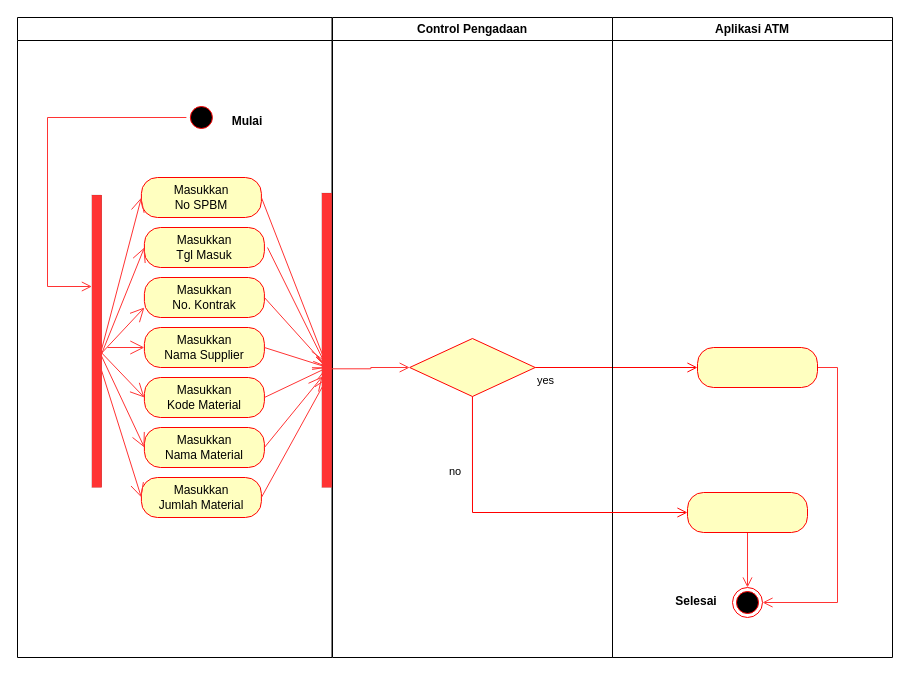
This 910x675 diagram has some shape labels left out. The shapes that lost their labels are listed below. From the top down, each one's box as (x1, y1, x2, y2) in pixels, then its label:
(16, 16, 332, 658): Pengadaan
(409, 338, 535, 396): tekan simpan
(696, 346, 818, 388): Simpan Data
(686, 492, 808, 532): Menu Input Barang Material Masuk
